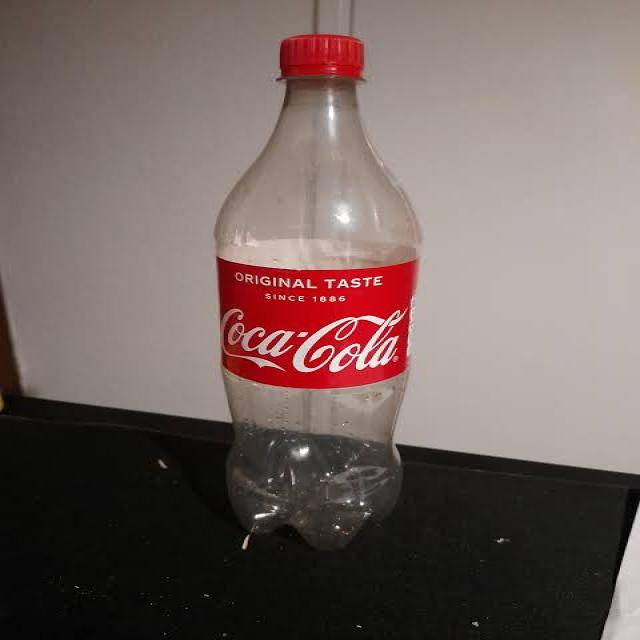plastic: (182, 19, 454, 549)
